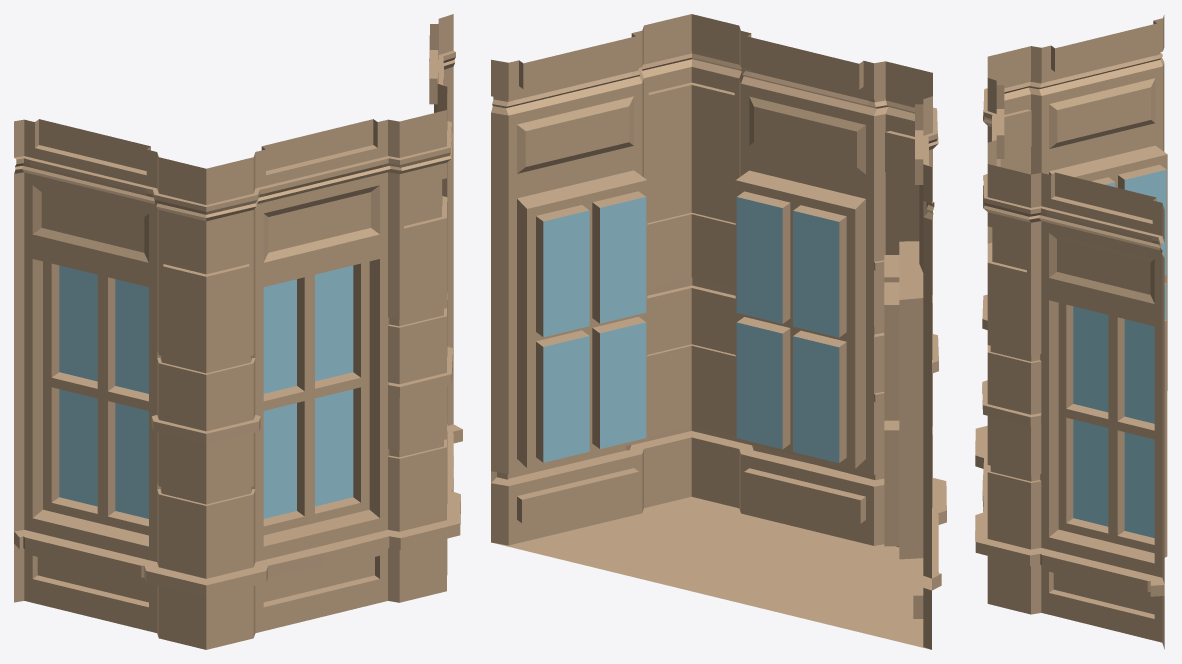
Rendered from O_FaceTypeHexDoubleWindow_Mid01.fbx.
The picture shows the model from 3 angles, left to right: view 1: azimuth 30°, elevation 25°; view 2: azimuth 150°, elevation 25°; view 3: azimuth 270°, elevation 25°; orthographic projection. The views are drawn at different scales.
Visible parts, largest first — view 1: O_FacadeTypeHexDoubleWindow_Mid01; view 2: O_FacadeTypeHexDoubleWindow_Mid01; view 3: O_FacadeTypeHexDoubleWindow_Mid01.
Part boxes in pixels (box(x1,y1,x2,y2)): O_FacadeTypeHexDoubleWindow_Mid01: box(14, 14, 462, 649); O_FacadeTypeHexDoubleWindow_Mid01: box(491, 14, 946, 649); O_FacadeTypeHexDoubleWindow_Mid01: box(975, 15, 1167, 649).
Size of the model in its own units: 626 by 650 by 258.
